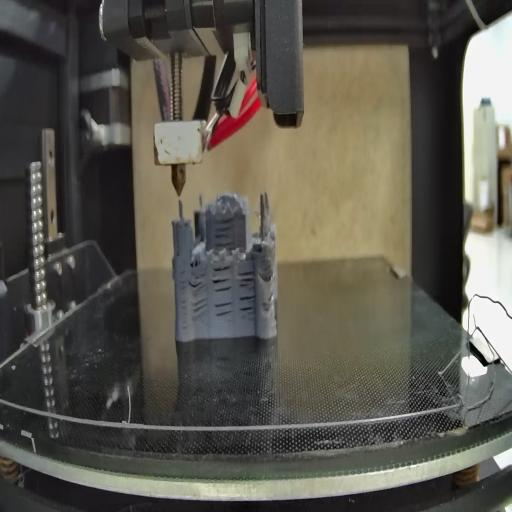cracks: (237, 270, 255, 322), (212, 219, 235, 248), (212, 264, 235, 292), (189, 292, 208, 323), (213, 298, 234, 322), (180, 276, 188, 334), (188, 268, 206, 290), (263, 261, 276, 283), (174, 249, 185, 266), (267, 288, 275, 310)
